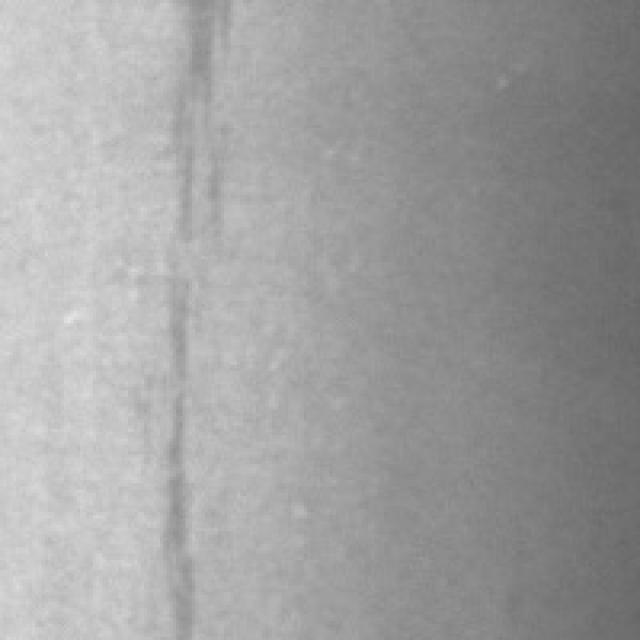inclusion: (134, 218, 228, 636), (157, 0, 237, 250)
